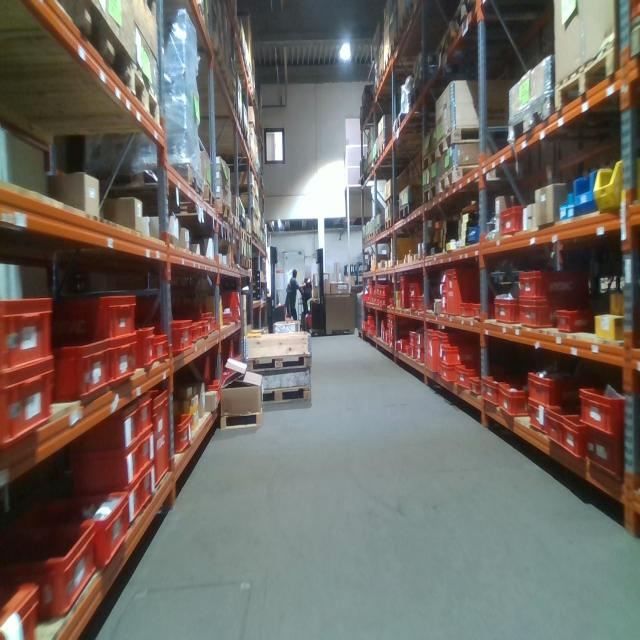pallet: (0, 68, 161, 129), (44, 3, 123, 81), (556, 43, 625, 114), (91, 167, 205, 199), (436, 121, 509, 163), (429, 2, 478, 64), (508, 96, 554, 147), (259, 385, 312, 408), (248, 353, 312, 370), (437, 166, 478, 191), (391, 110, 421, 139), (195, 175, 217, 212), (207, 199, 233, 228), (411, 74, 431, 109), (421, 151, 436, 172), (227, 216, 242, 237), (422, 184, 435, 201), (398, 202, 411, 217), (377, 142, 386, 158), (386, 195, 397, 208), (239, 228, 247, 245), (384, 215, 393, 230), (237, 259, 248, 268), (374, 227, 383, 235), (247, 260, 253, 272), (248, 233, 253, 247), (370, 232, 375, 242)
pallet_truck: (303, 244, 328, 340), (267, 243, 293, 324)
small_load_carrier: (4, 518, 98, 615), (33, 493, 129, 564), (54, 330, 114, 413), (55, 289, 137, 344), (1, 365, 54, 448), (77, 439, 142, 500), (1, 299, 52, 376), (86, 399, 146, 457), (576, 385, 630, 435), (150, 390, 173, 487), (112, 467, 146, 530), (2, 583, 39, 640), (583, 435, 628, 481), (514, 269, 580, 300), (437, 325, 470, 384), (442, 260, 478, 312), (525, 367, 565, 410), (109, 334, 137, 387), (546, 402, 576, 451), (145, 319, 192, 350), (566, 413, 594, 462), (520, 302, 565, 331), (133, 324, 156, 379), (497, 383, 527, 419), (136, 428, 155, 480), (168, 410, 191, 452), (499, 202, 523, 242), (493, 299, 520, 331), (557, 306, 590, 332), (527, 394, 547, 435), (439, 343, 471, 368), (427, 327, 441, 377), (140, 462, 157, 502), (138, 394, 155, 433), (200, 377, 221, 407), (482, 376, 501, 407), (456, 363, 474, 394), (471, 306, 496, 326), (439, 363, 459, 386), (224, 333, 235, 374), (467, 376, 484, 399), (155, 333, 168, 363), (401, 275, 410, 309), (223, 290, 239, 309), (458, 302, 473, 321), (191, 321, 202, 345), (417, 331, 430, 349), (204, 308, 212, 336), (405, 293, 418, 310), (198, 320, 207, 342), (418, 299, 434, 311), (231, 307, 243, 323), (222, 306, 230, 329), (409, 280, 420, 296), (439, 296, 449, 313), (439, 281, 449, 296), (416, 350, 425, 365), (409, 329, 416, 347), (440, 269, 449, 281), (387, 335, 394, 348), (381, 285, 388, 298), (409, 347, 415, 362), (237, 353, 242, 370), (210, 316, 216, 330)
